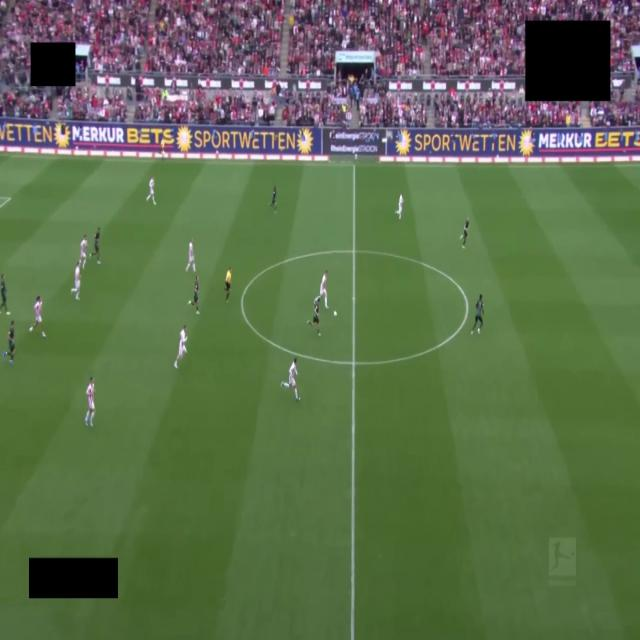ball: (334, 311, 337, 316)
player: (281, 358, 299, 400), (29, 296, 45, 337), (174, 325, 187, 368), (3, 320, 15, 364), (471, 295, 483, 335), (307, 299, 320, 335), (85, 377, 94, 426), (0, 274, 10, 314), (189, 277, 199, 314), (90, 228, 100, 264), (71, 262, 80, 300), (186, 239, 196, 271), (320, 271, 328, 309), (460, 217, 469, 247), (80, 235, 87, 269), (147, 177, 155, 205), (396, 194, 403, 219), (270, 186, 276, 212)
referee: (225, 267, 231, 302)
